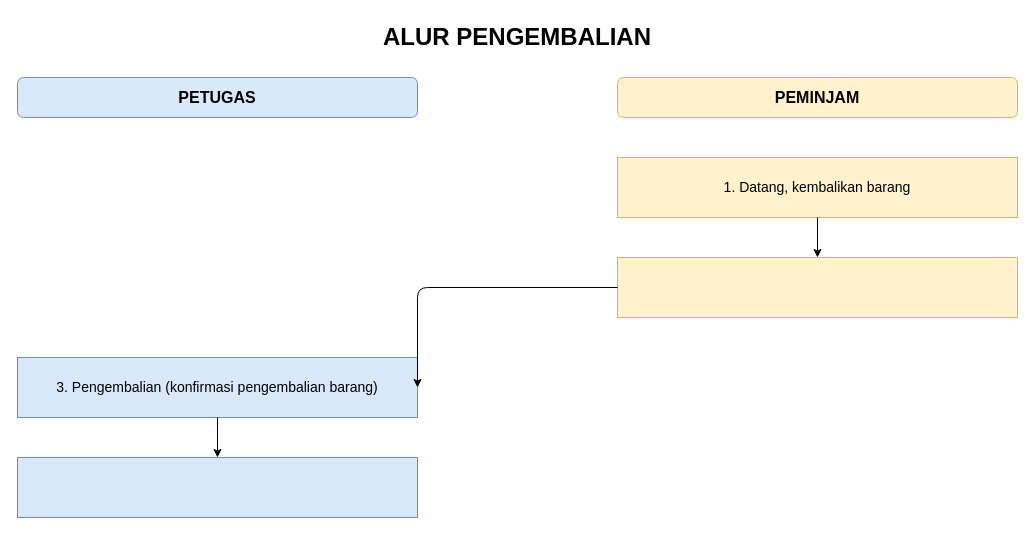
This 1035x535 diagram has some shape labels left out. Each missing label, with the centre of its shape:
2. Mengembalikan alat: (817,287)
4. Cetak bukti pengembalian: (217,487)
